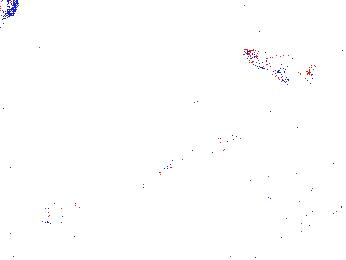X-ray fish: (1, 1, 20, 32)
glassfish: (124, 133, 236, 211)
redtail glassfish: (241, 47, 316, 86)
